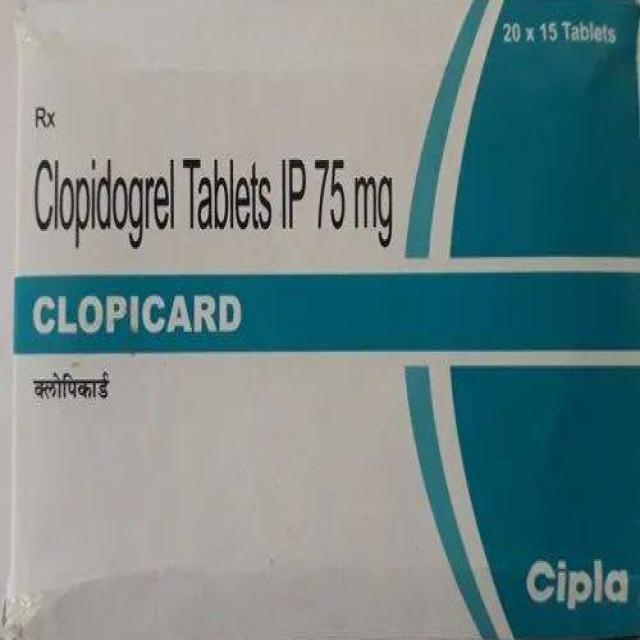drug-name: (28, 285, 245, 336)
